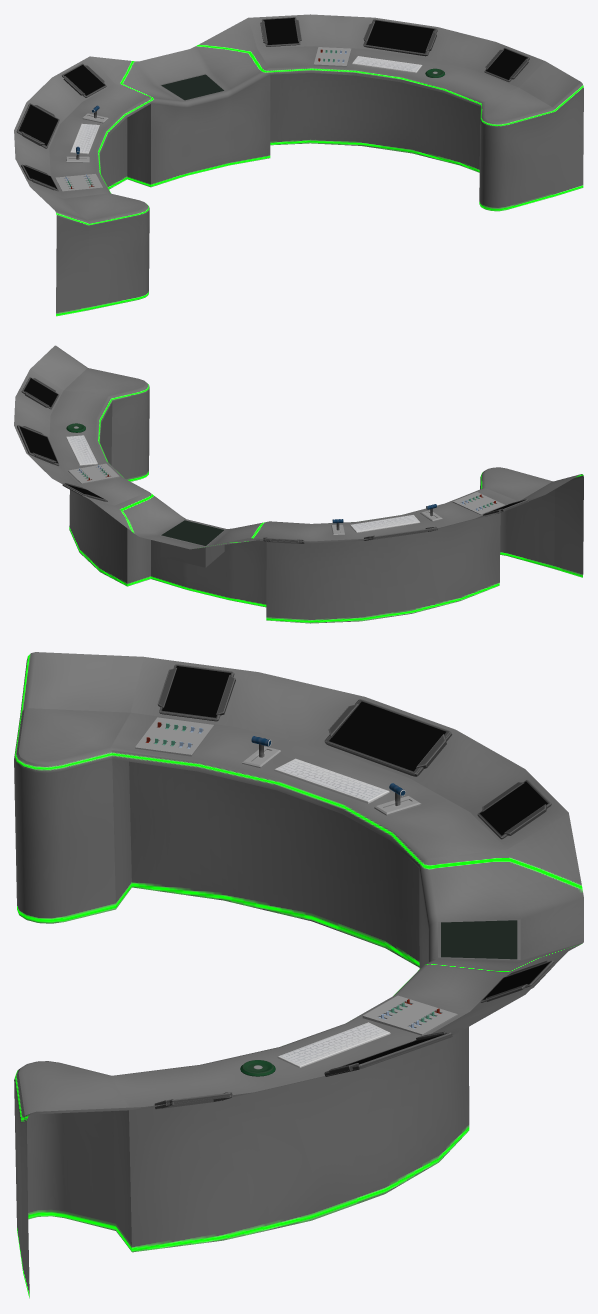
Rendered from Tx_Consola_Maestra_COM.fbx.
The picture shows the model from 3 angles, top to bottom: view 1: azimuth 30°, elevation 25°; view 2: azimuth 150°, elevation 25°; view 3: azimuth 270°, elevation 25°; orthographic projection. The views are drawn at different scales.
Parts seen in each view (by area): view 1: Consola_maestra, Pantalla_v2_CML_co1, Pantalla_v2_CML_co, Tapa_con_maestra, Pantalla_v3_CML_2_co1, Pantalla_v3_CML_co1, Pantalla_v3_CML_2_co, Teclado_v2_CML_co1, Panel_suich_L_Co1, Panel_suich_L_Co, Teclado_v2_CML_co; view 2: Consola_maestra, Tapa_con_maestra, Pantalla_v2_CML_co1, Panel_suich_L_Co1, Teclado_v2_CML_co, Panel_suich_L_Co, Teclado_v2_CML_co1, Pantalla_v3_CML_co1; view 3: Consola_maestra, Pantalla_v2_CML_co, Tapa_con_maestra, Pantalla_v3_CML_co, Panel_suich_L_Co1, Teclado_v2_CML_co, Pantalla_v3_CML_2_co, Teclado_v2_CML_co1, Panel_suich_L_Co, Pantalla_v2_CML_co1, Pantalla_v3_CML_2_co1.
Part boxes in pixels (x1,y1,x2,y2): Consola_maestra: [14, 14, 583, 316]; Pantalla_v2_CML_co1: [363, 19, 437, 56]; Pantalla_v2_CML_co: [16, 103, 59, 148]; Tapa_con_maestra: [161, 74, 223, 100]; Pantalla_v3_CML_2_co1: [262, 17, 300, 46]; Pantalla_v3_CML_co1: [484, 47, 529, 81]; Pantalla_v3_CML_2_co: [62, 63, 106, 97]; Teclado_v2_CML_co1: [352, 56, 422, 73]; Panel_suich_L_Co1: [313, 47, 351, 67]; Panel_suich_L_Co: [55, 174, 102, 191]; Teclado_v2_CML_co: [70, 123, 99, 154]; Consola_maestra: [14, 345, 583, 623]; Tapa_con_maestra: [161, 520, 223, 545]; Pantalla_v2_CML_co1: [17, 425, 59, 465]; Panel_suich_L_Co1: [68, 463, 119, 483]; Teclado_v2_CML_co: [350, 515, 420, 532]; Panel_suich_L_Co: [452, 492, 504, 514]; Teclado_v2_CML_co1: [66, 435, 97, 465]; Pantalla_v3_CML_co1: [21, 377, 59, 409]; Consola_maestra: [14, 652, 583, 1298]; Pantalla_v2_CML_co: [324, 699, 452, 776]; Tapa_con_maestra: [441, 920, 517, 959]; Pantalla_v3_CML_co: [159, 664, 234, 721]; Panel_suich_L_Co1: [362, 995, 457, 1035]; Teclado_v2_CML_co: [274, 758, 389, 803]; Pantalla_v3_CML_2_co: [477, 779, 551, 839]; Teclado_v2_CML_co1: [277, 1022, 390, 1067]; Panel_suich_L_Co: [135, 717, 214, 756]; Pantalla_v2_CML_co1: [324, 1032, 452, 1076]; Pantalla_v3_CML_2_co1: [480, 960, 554, 1002].
Bounding box in the file's own units: 496 × 95.15 × 259.
Materials: 4 (4 with a texture image).
